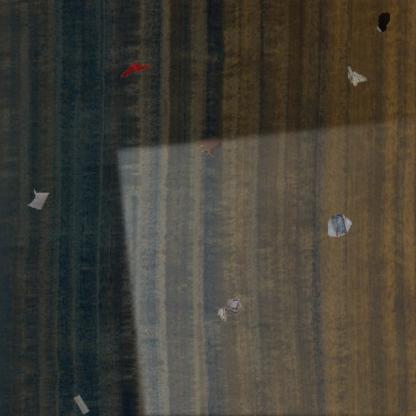dirty: (216, 295, 247, 324), (326, 213, 352, 237), (120, 60, 150, 80), (26, 187, 50, 211), (346, 65, 368, 88), (72, 394, 90, 416)
liquid: (195, 135, 222, 159), (375, 11, 392, 33)
